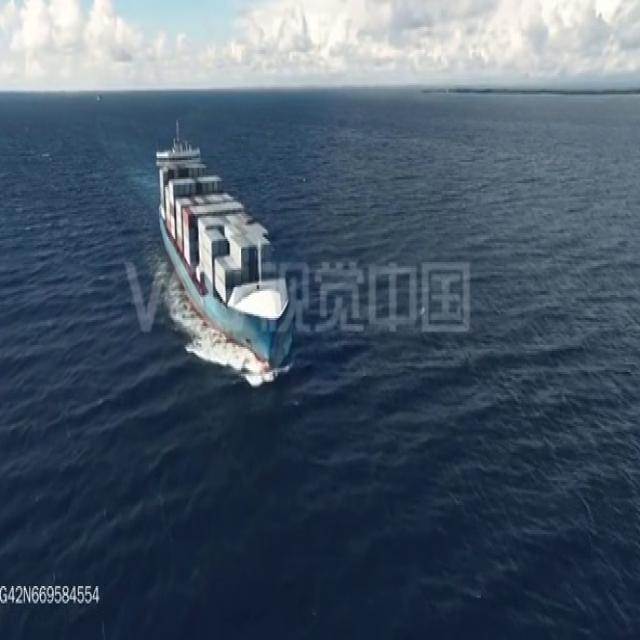cargoship: (150, 125, 289, 372)
